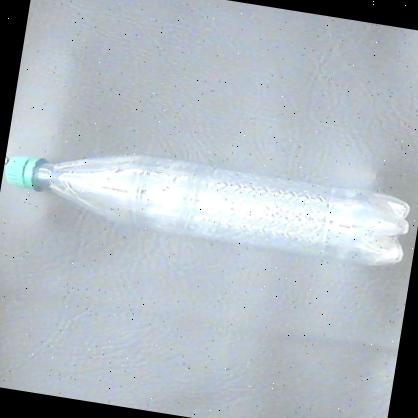bottle: (0, 131, 418, 276)
cap: (0, 147, 51, 205)
